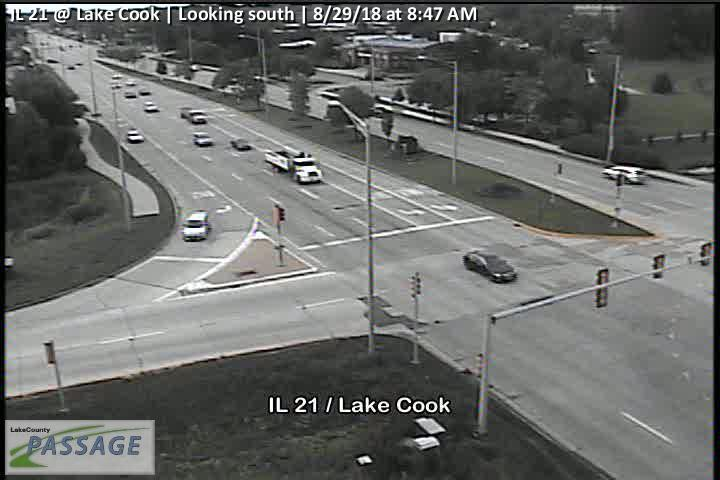SUV: (602, 164, 647, 184), (182, 209, 210, 240), (192, 131, 214, 146)
Sedan: (463, 249, 518, 283), (231, 138, 250, 151), (126, 130, 144, 143)
Truck: (264, 146, 324, 184), (180, 107, 208, 124)
